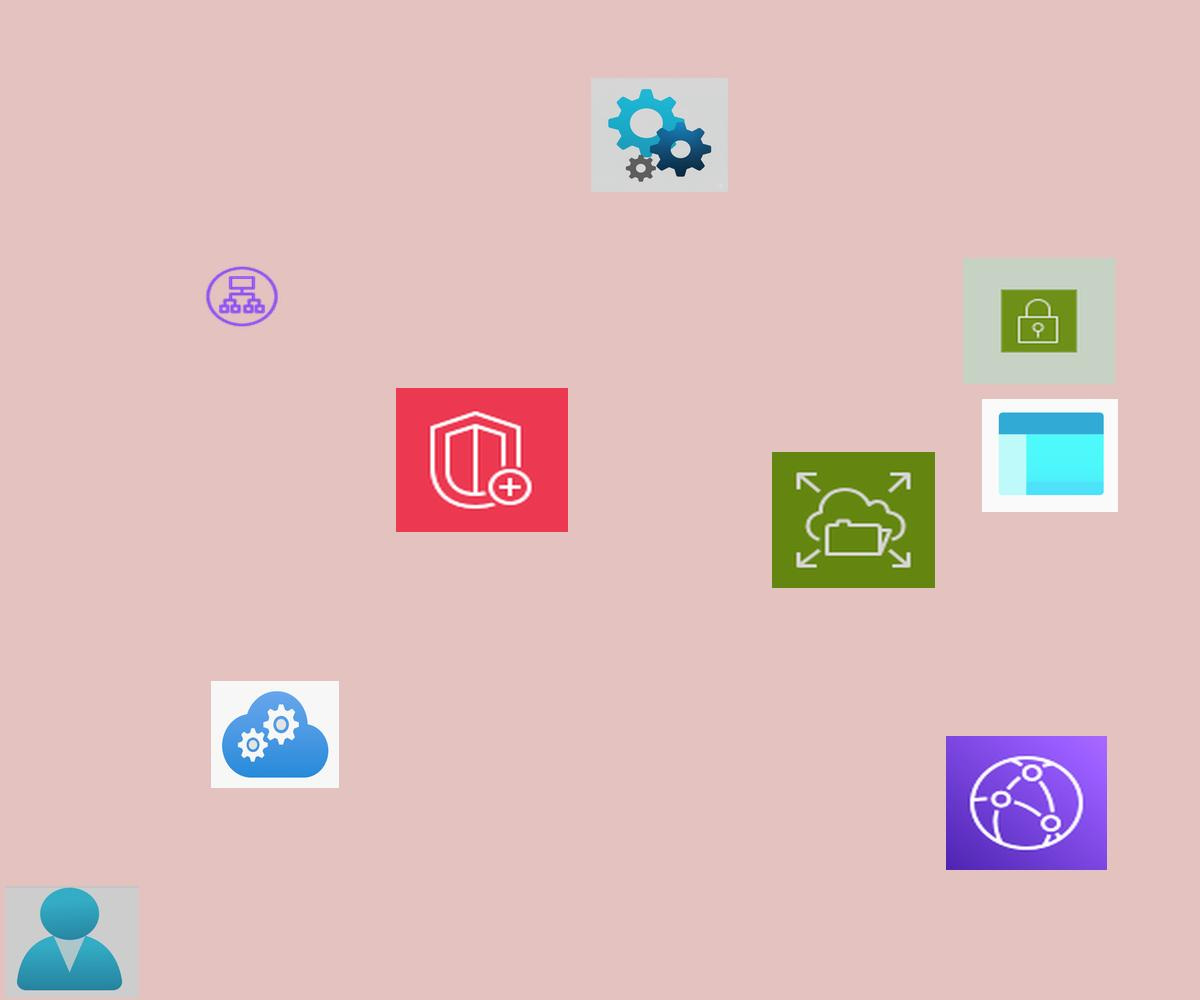AWS-CloudFront: (946, 736, 1107, 870)
AWS-EFS: (772, 452, 935, 588)
AWS-Public-subnet: (963, 258, 1115, 384)
AWS-Res_Elastic-Load-Balancing_Application-Load-Balancer: (203, 264, 281, 329)
AWS-Shield: (396, 388, 568, 532)
Azure_api: (591, 78, 728, 192)
Azure_cloud_services: (211, 681, 339, 788)
Azure_management-portal: (982, 399, 1118, 512)
Azure_users: (5, 886, 139, 998)
